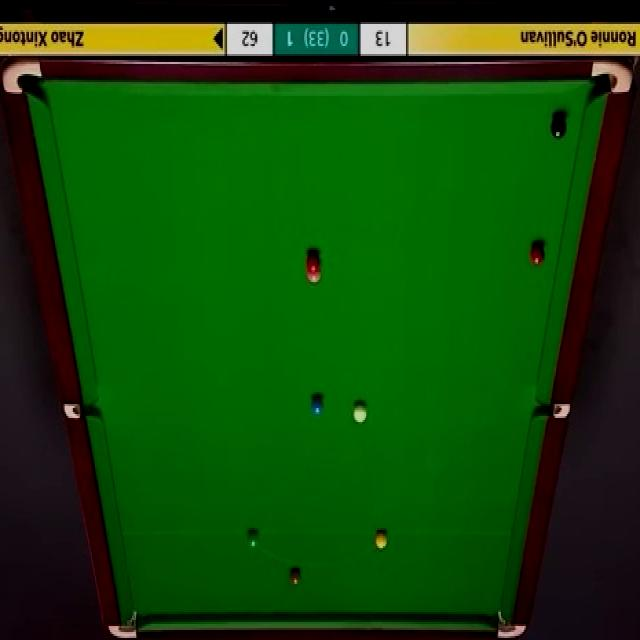black-ball: (553, 110, 570, 136)
blue-ball: (310, 394, 325, 418)
brown-ball: (289, 566, 302, 586)
green-ball: (247, 530, 260, 551)
pink-ball: (306, 270, 322, 285)
red-ball: (530, 242, 546, 268), (305, 252, 321, 273)
white-ball: (354, 400, 369, 426)
yellow-ball: (375, 530, 387, 550)
